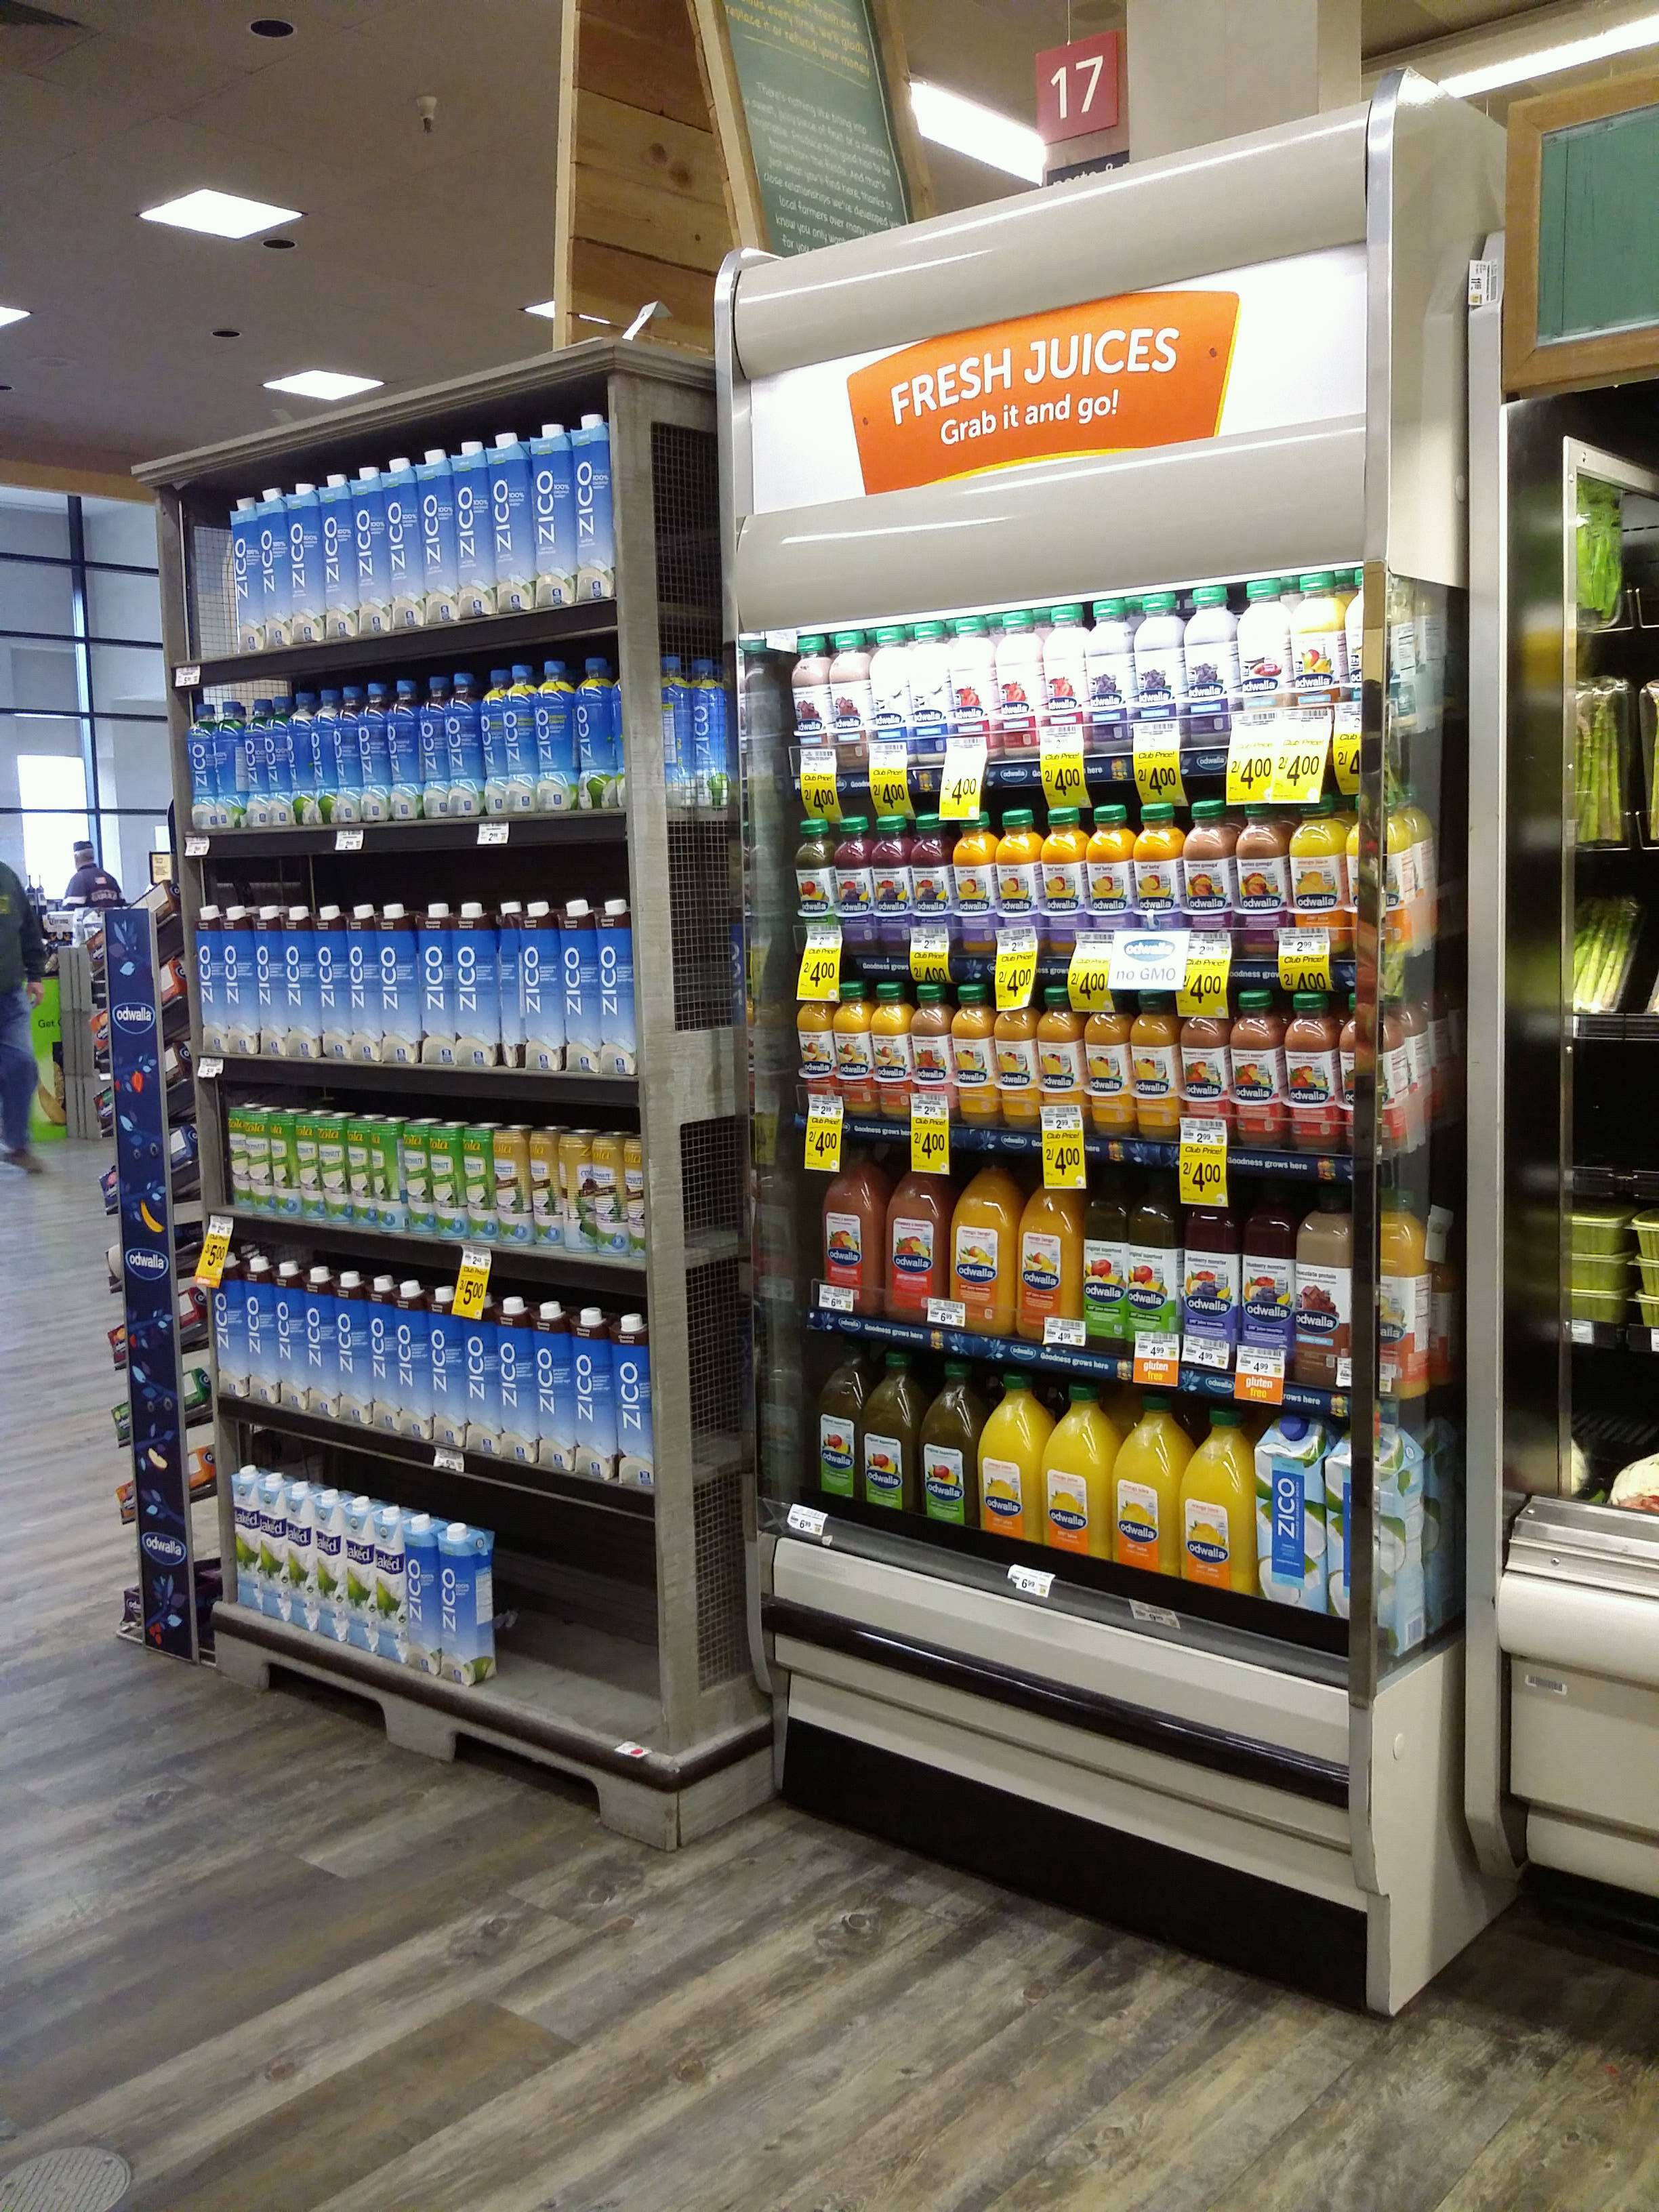product: (1330, 1411, 1429, 1658), (1180, 1414, 1255, 1622), (1042, 1376, 1117, 1571), (1255, 1411, 1319, 1620), (950, 1146, 1016, 1346), (913, 1353, 981, 1547), (1298, 1184, 1359, 1397), (1359, 1217, 1429, 1397), (1072, 1163, 1133, 1359), (1183, 1174, 1243, 1372), (1338, 995, 1408, 1158), (795, 1339, 857, 1519), (880, 1151, 945, 1322), (1115, 1397, 1176, 1576), (816, 1143, 875, 1324), (1018, 1169, 1077, 1348), (1241, 1190, 1297, 1372), (1349, 568, 1410, 733), (1133, 981, 1188, 1158), (1187, 587, 1248, 747), (981, 1371, 1033, 1548), (1345, 798, 1399, 960), (1248, 585, 1302, 744), (1035, 974, 1086, 1137), (554, 900, 601, 1075), (1187, 989, 1236, 1157), (572, 420, 617, 597), (859, 1357, 910, 1515), (1302, 568, 1349, 737), (601, 887, 643, 1075), (1237, 984, 1283, 1157), (1286, 1007, 1337, 1160), (1089, 603, 1141, 751), (619, 1312, 662, 1489), (1286, 801, 1338, 949), (1136, 1167, 1178, 1352), (1086, 981, 1134, 1137), (943, 981, 995, 1125), (1136, 801, 1185, 954), (1183, 801, 1232, 953), (1143, 596, 1192, 745), (870, 805, 920, 949), (572, 1313, 617, 1472), (997, 815, 1046, 960), (997, 611, 1044, 761), (535, 425, 573, 608), (450, 907, 491, 1073), (457, 435, 493, 622), (495, 432, 533, 610), (953, 615, 1000, 759), (406, 1515, 446, 1684), (1093, 808, 1138, 953), (416, 449, 455, 620), (532, 1299, 570, 1470), (378, 451, 415, 629), (378, 902, 416, 1071), (1049, 812, 1094, 954), (953, 812, 997, 958), (1046, 608, 1089, 751), (460, 1289, 497, 1458), (342, 1498, 376, 1672), (870, 977, 910, 1127), (443, 1524, 479, 1688), (253, 482, 288, 653), (335, 1271, 371, 1433), (396, 1275, 430, 1444), (997, 972, 1035, 1123), (788, 639, 829, 775), (1236, 801, 1277, 937), (288, 481, 322, 643), (416, 902, 450, 1071), (829, 977, 870, 1116), (798, 819, 838, 958), (873, 629, 913, 768), (497, 1301, 532, 1461), (568, 664, 605, 813), (314, 907, 347, 1071), (240, 1259, 277, 1407), (913, 624, 950, 768), (829, 632, 866, 775), (910, 981, 945, 1130), (385, 679, 420, 827), (521, 907, 552, 1068), (281, 1482, 312, 1642), (324, 467, 352, 643), (535, 664, 568, 812), (349, 902, 378, 1064), (230, 1458, 260, 1620), (795, 981, 829, 1118), (206, 1259, 240, 1397), (626, 1132, 664, 1256), (253, 911, 284, 1059), (554, 1130, 591, 1256), (430, 1291, 460, 1444), (838, 812, 870, 956), (220, 907, 249, 1059), (284, 907, 314, 1059), (192, 907, 221, 1057), (493, 1125, 528, 1252), (491, 907, 519, 1066), (450, 672, 479, 820), (352, 463, 378, 631), (303, 1273, 335, 1413), (593, 1134, 627, 1256), (917, 819, 946, 960), (368, 1113, 401, 1238), (430, 1120, 464, 1245), (605, 657, 631, 815), (230, 498, 256, 655), (335, 686, 362, 833), (375, 1515, 401, 1670), (183, 704, 213, 838), (423, 676, 450, 826), (277, 1264, 303, 1414), (507, 665, 533, 813), (371, 1271, 396, 1430), (310, 1494, 336, 1641), (213, 700, 240, 836), (484, 667, 509, 819), (317, 1116, 349, 1231), (528, 1127, 556, 1251), (263, 693, 288, 833), (464, 1125, 491, 1245), (310, 690, 335, 826), (362, 683, 385, 829), (403, 1120, 430, 1238), (288, 690, 310, 824), (242, 1113, 270, 1221), (270, 1109, 296, 1223), (260, 1479, 281, 1620), (240, 700, 261, 826), (349, 1113, 369, 1231), (227, 1106, 246, 1221), (298, 1116, 314, 1224)
